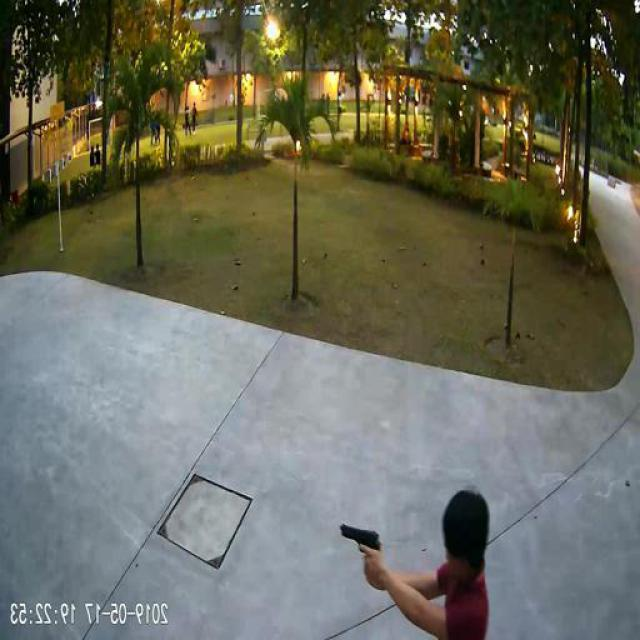Gun: (341, 522, 384, 578)
